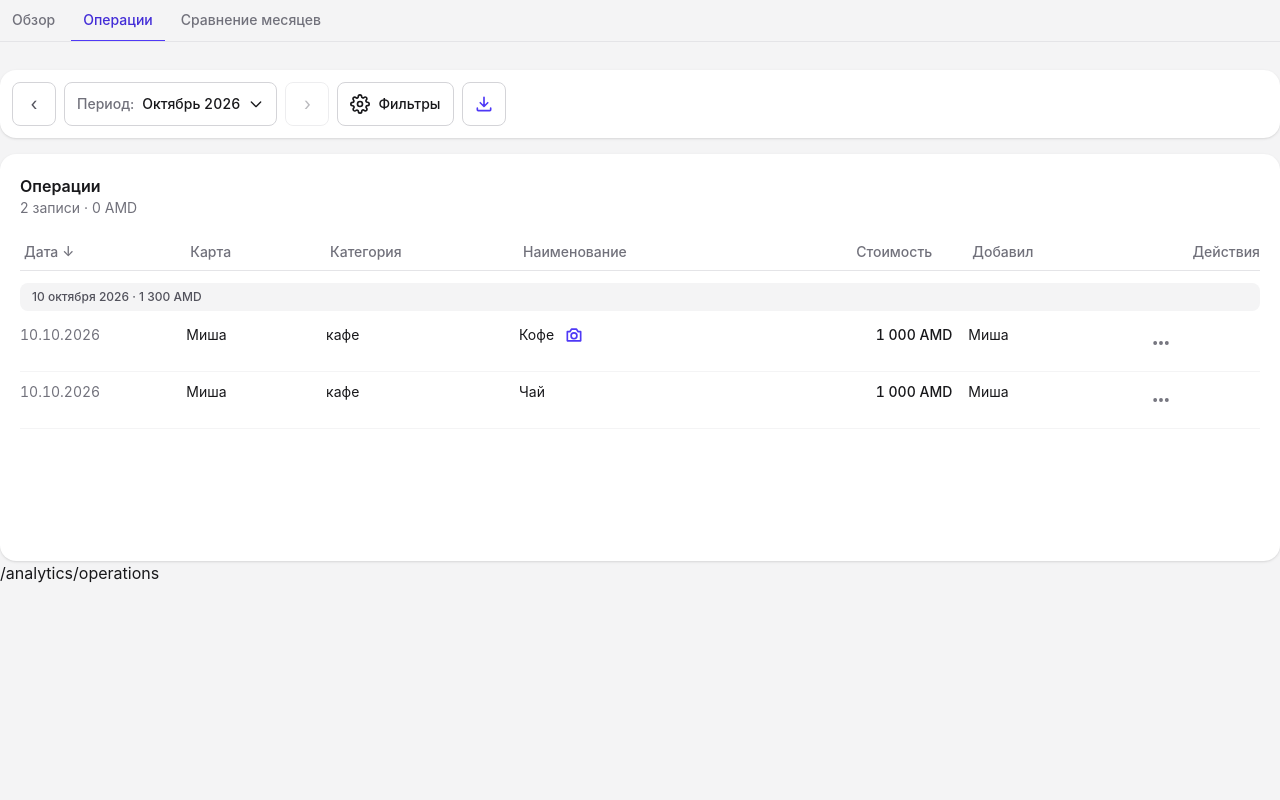
Scenario: фото в «Операциях» › значок есть только у записи с фото; клик открывает фото в окне
The width and height of the screenshot is (1280, 800).
Check: the row "10.10.2026 Миша кафе Кофе 1 000 AMD Миша" is shown, box 20,315 -> 1260,372
Click the button named "Есть фото чека" at [574, 335], box 558,319 -> 590,351
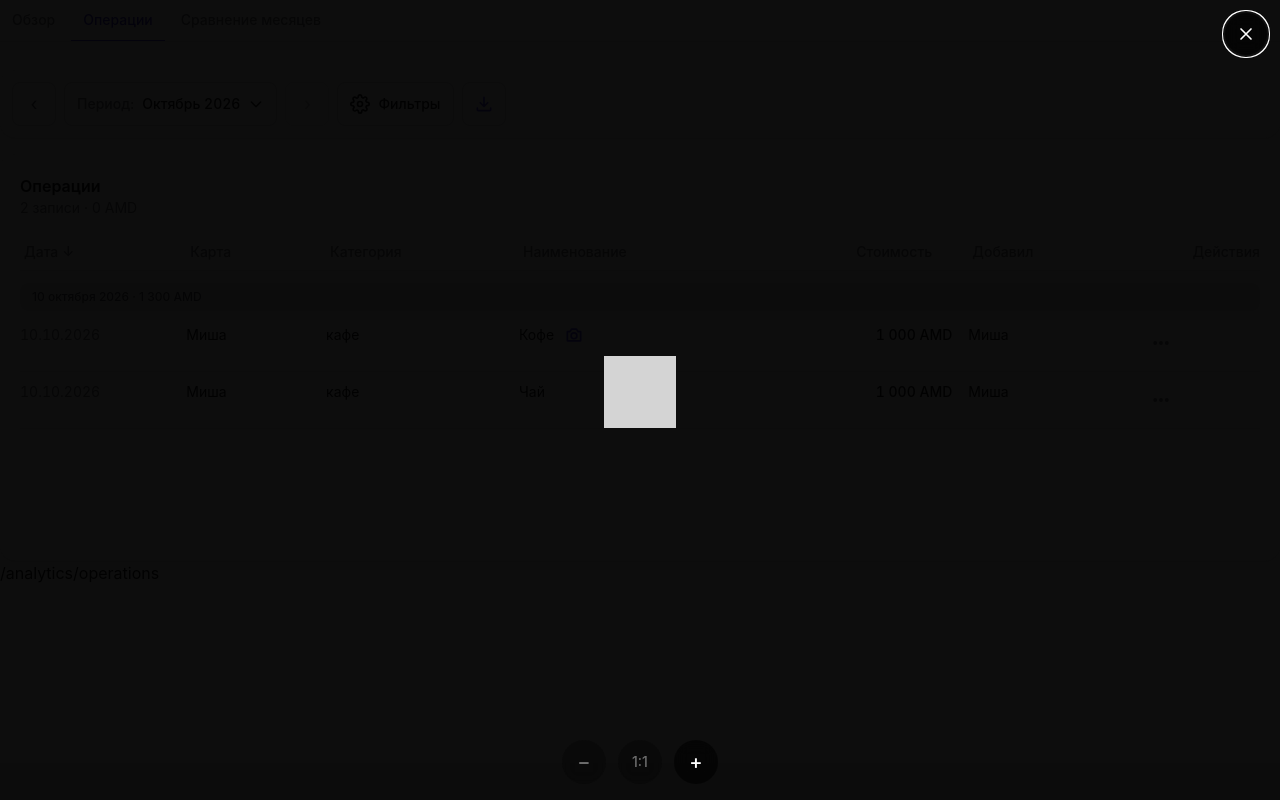
Click the button named "Закрыть" at [1246, 34], box 1224,12 -> 1268,56
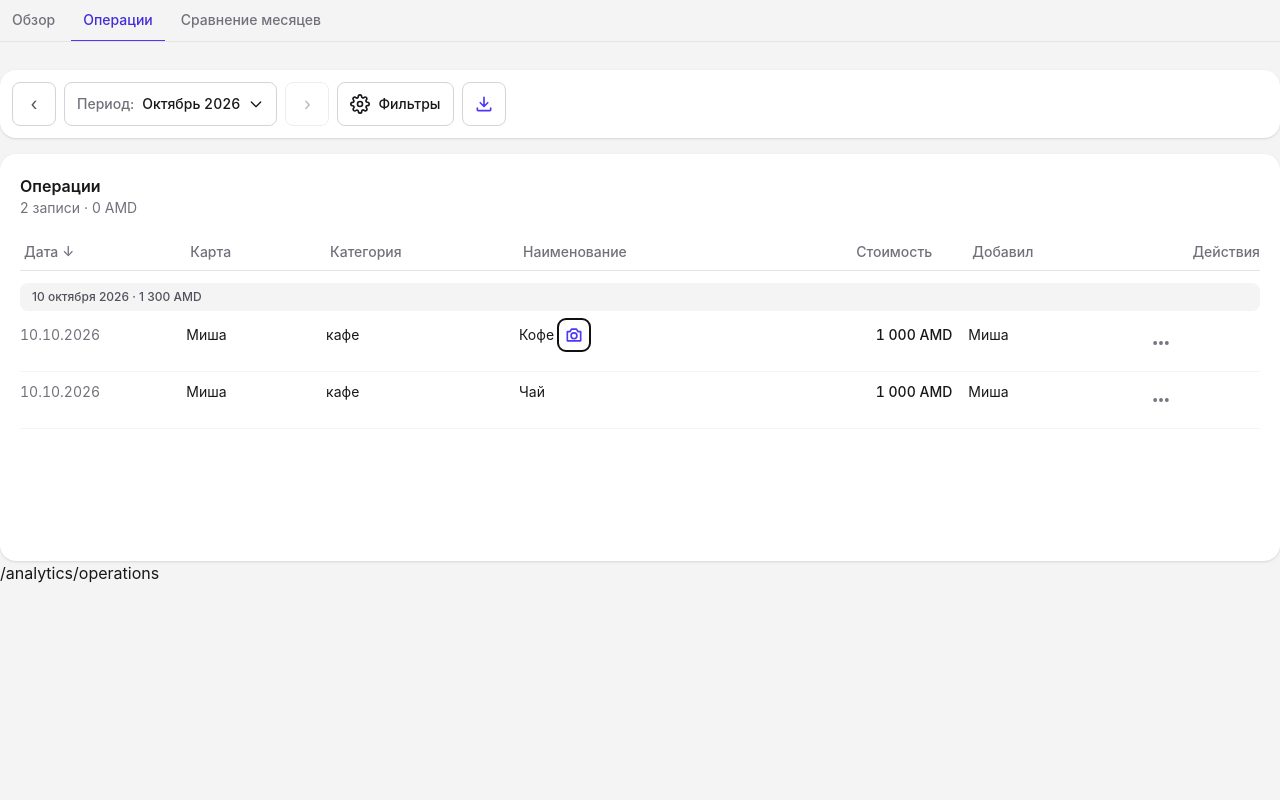
Check: the dialog is gone
